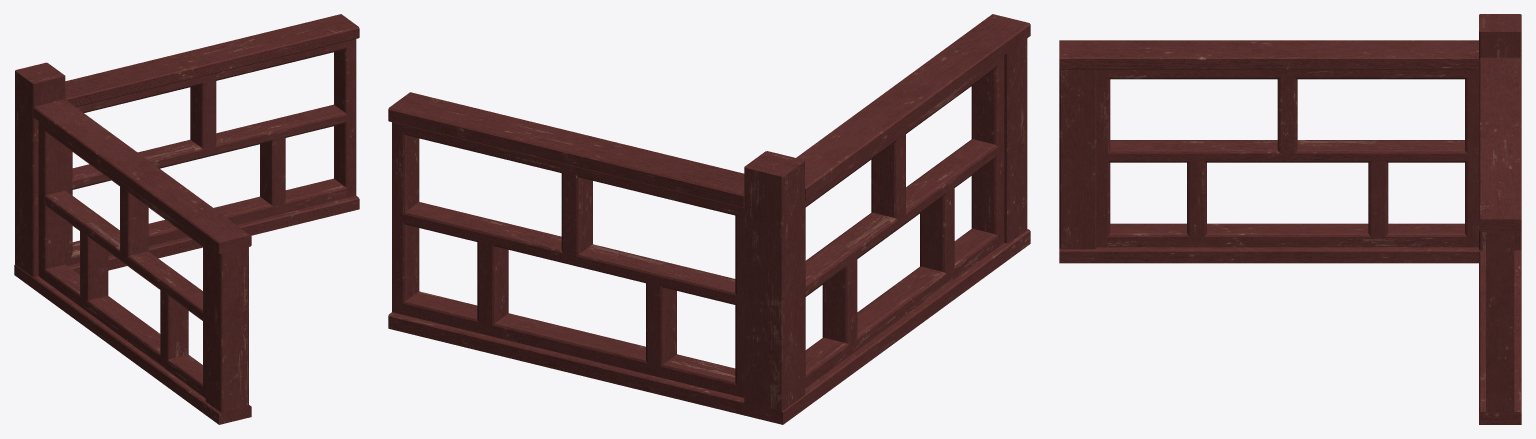
The model's file is SM_Fence02a.fbx.
3 views of the same model, side by side, from view 1: azimuth 30°, elevation 25°; view 2: azimuth 150°, elevation 25°; view 3: azimuth 270°, elevation 25° (orthographic). The views are drawn at different scales.
Parts seen in each view (by area): view 1: SM_Fence02a; view 2: SM_Fence02a; view 3: SM_Fence02a.
Part boxes in pixels (bbox=[...]): SM_Fence02a: bbox=[14, 14, 359, 424]; SM_Fence02a: bbox=[388, 14, 1030, 424]; SM_Fence02a: bbox=[1059, 14, 1521, 424].
Size of the model in its own units: 150 by 90 by 163.
